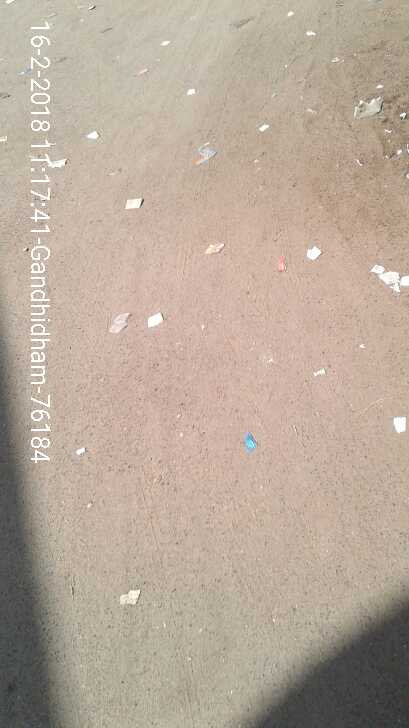reject: (194, 359, 293, 483)
